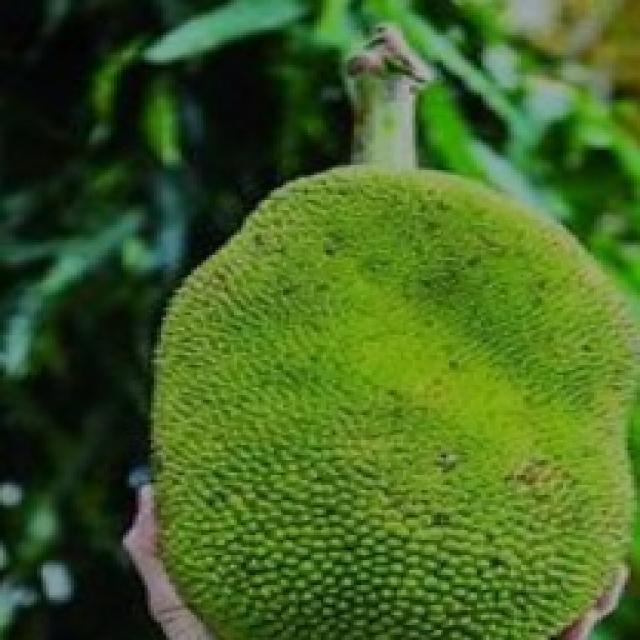Fruit: (86, 247, 470, 640)
